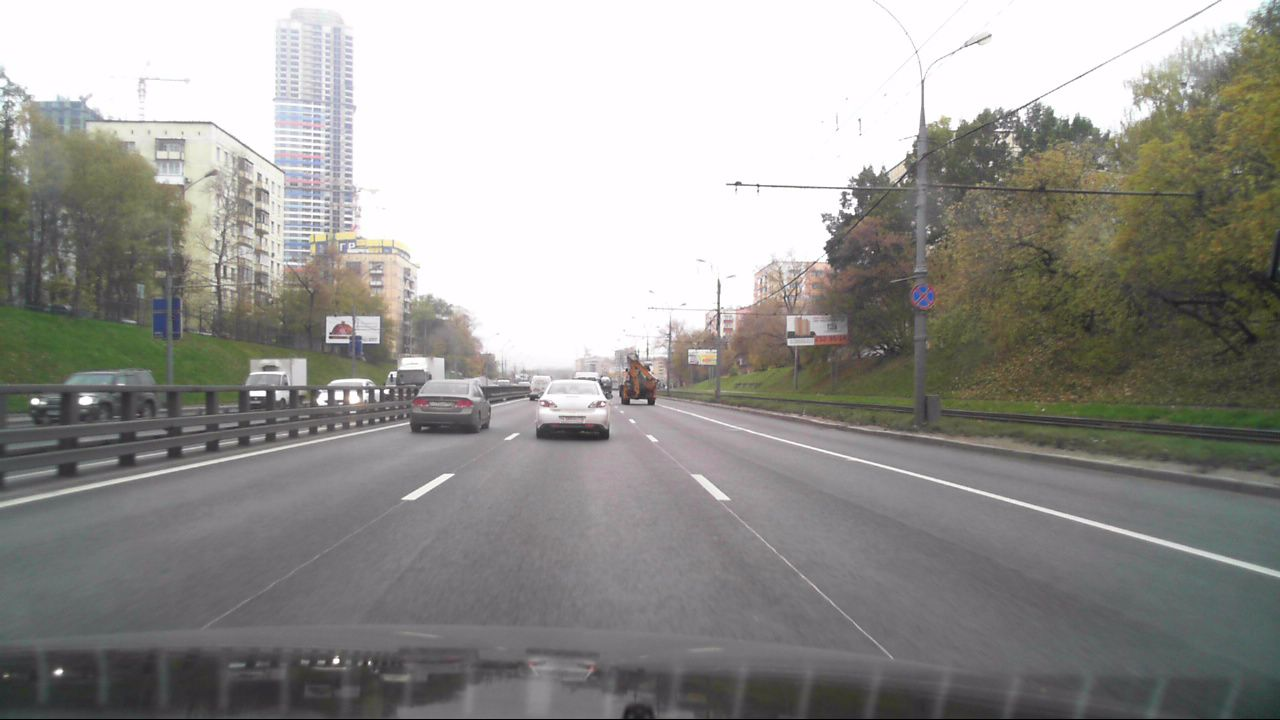No Parking: (910, 283, 935, 308)
